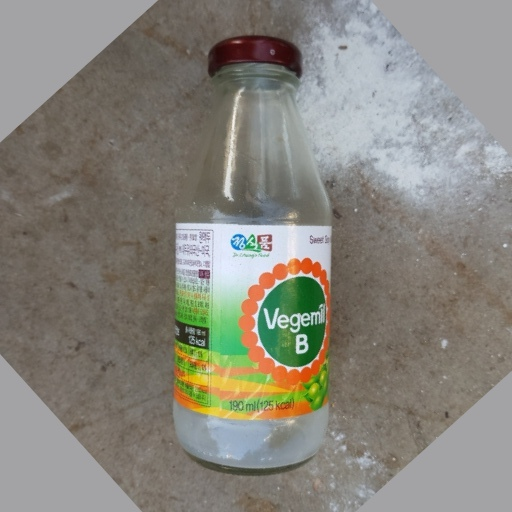Glass_4: (168, 34, 334, 477)
